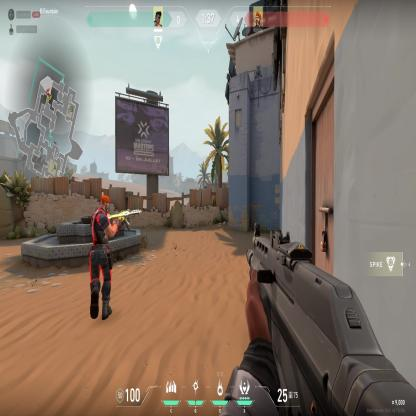enemy: (88, 194, 116, 325)
